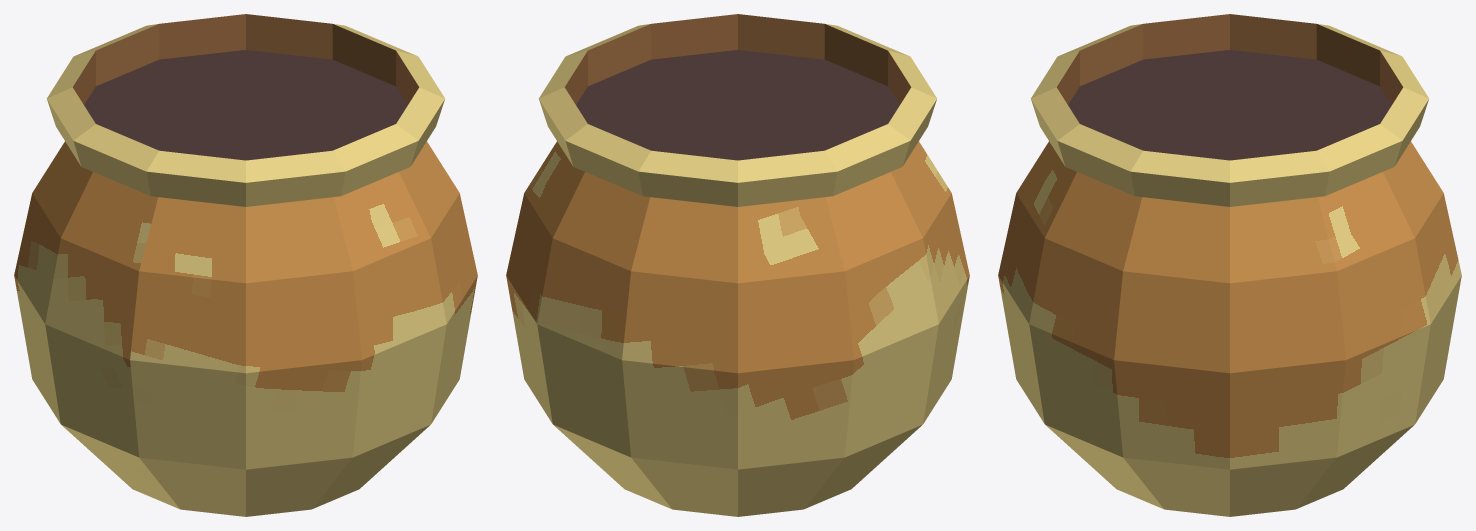
File: Pot.fbx
The picture shows the model from 3 angles, left to right: view 1: azimuth 30°, elevation 25°; view 2: azimuth 150°, elevation 25°; view 3: azimuth 270°, elevation 25°; orthographic projection.
Visible parts, largest first — view 1: Cylinder; view 2: Cylinder; view 3: Cylinder.
Boxes of the visible parts, bbox=[...] form: Cylinder: bbox=[14, 14, 477, 516]; Cylinder: bbox=[506, 14, 969, 516]; Cylinder: bbox=[998, 14, 1461, 516].
Size of the model in its own units: 134 by 151 by 151.
